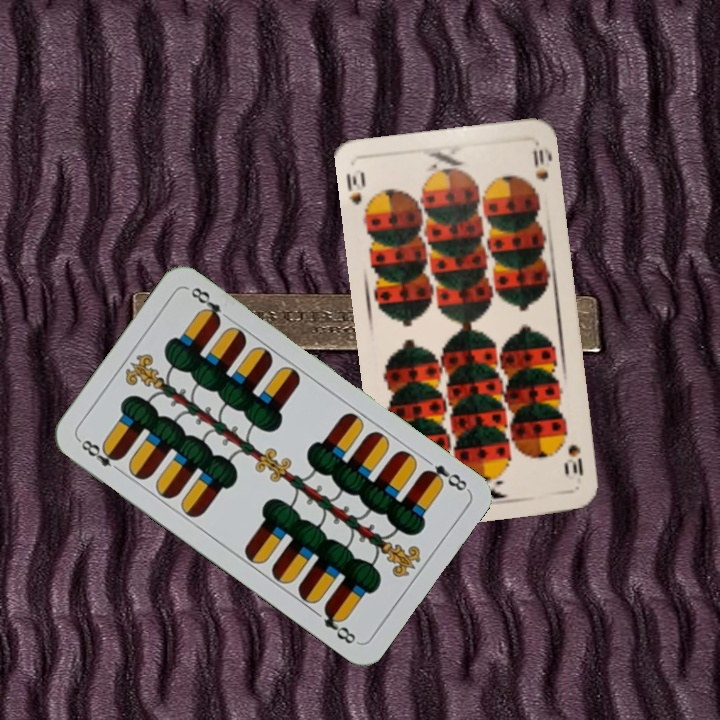E8: (75, 435, 125, 476), (418, 460, 471, 494)
S10: (342, 168, 373, 220), (563, 440, 586, 482)
